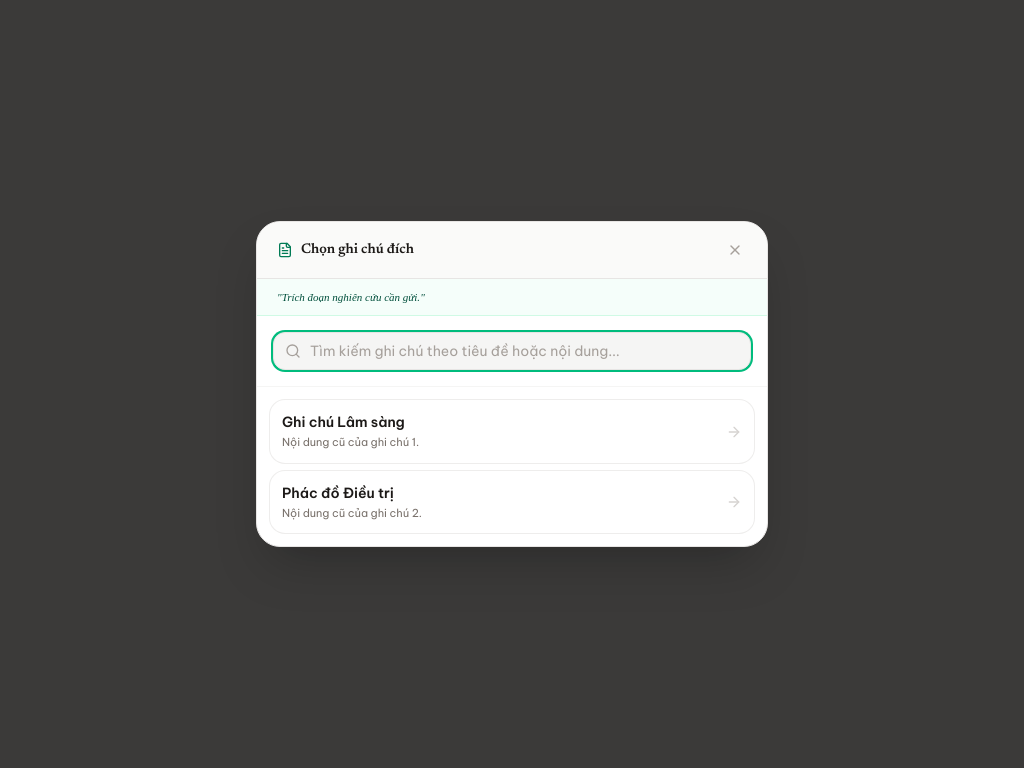
Test: Phase 18A Wave 3: Send Excerpt to Note Flow › filters notes list based on search query
Type "Phác đồ" into the field with placeholder "Tìm kiếm ghi chú theo tiêu đề hoặc nội dung..." at (512,351), box left=273, top=332, right=751, bottom=370
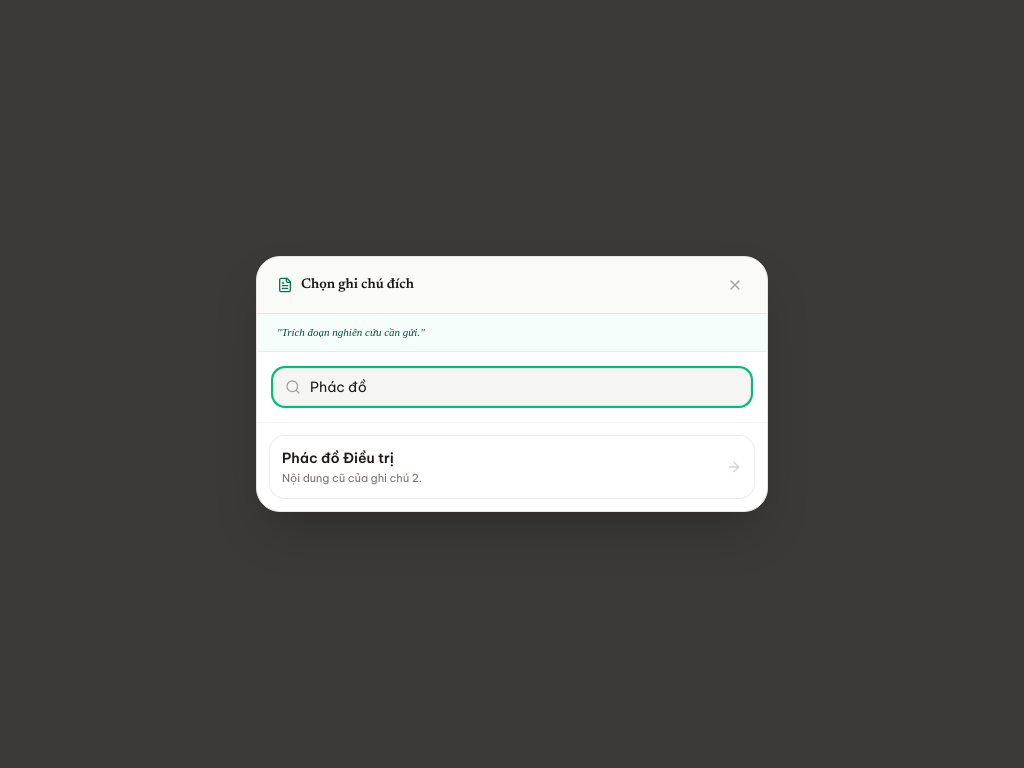
Expected: the heading "Phác đồ Điều trị" is shown, left=282, top=448, right=394, bottom=466
Expected: the button "Ghi chú Lâm sàng" is gone
